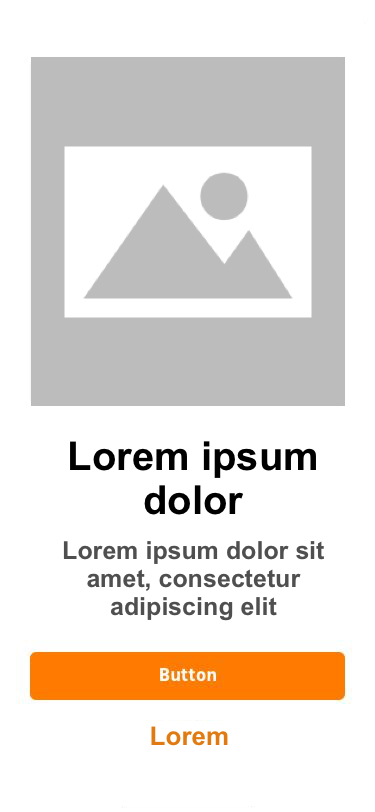Image: (32, 58, 346, 407)
Text: (63, 540, 325, 622), (70, 441, 317, 516), (151, 725, 229, 746)
TextButton: (30, 651, 346, 701)
